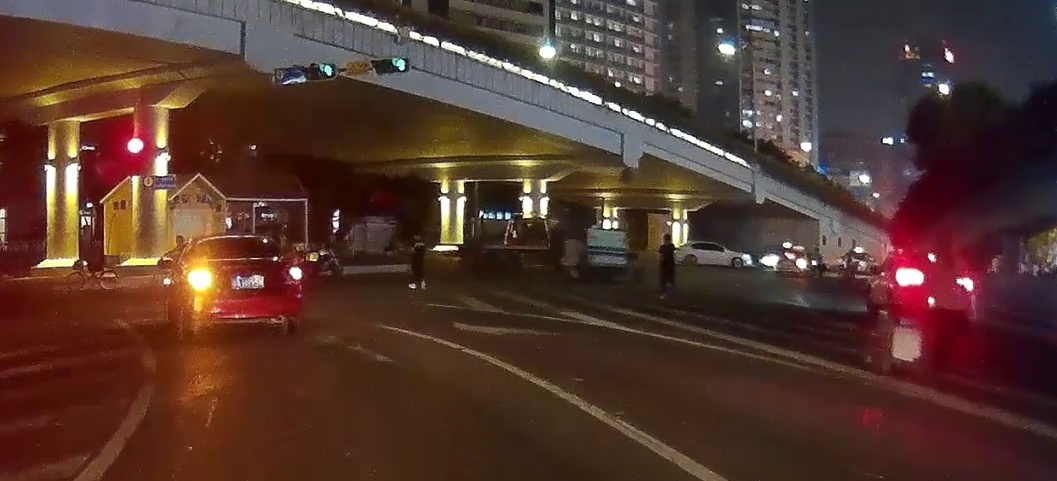L_light: (189, 271, 212, 289)
R_light: (283, 266, 302, 283)
T_light: (230, 238, 244, 242)
night-left: (171, 233, 310, 341)
